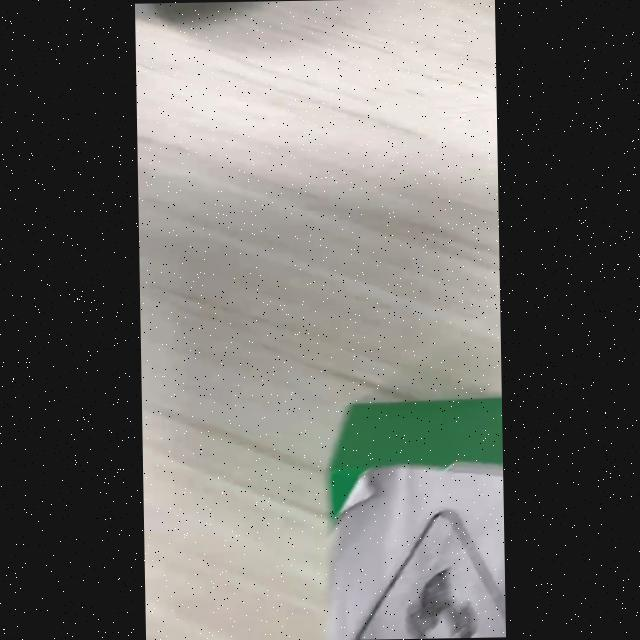Fire: (363, 516, 506, 639)
